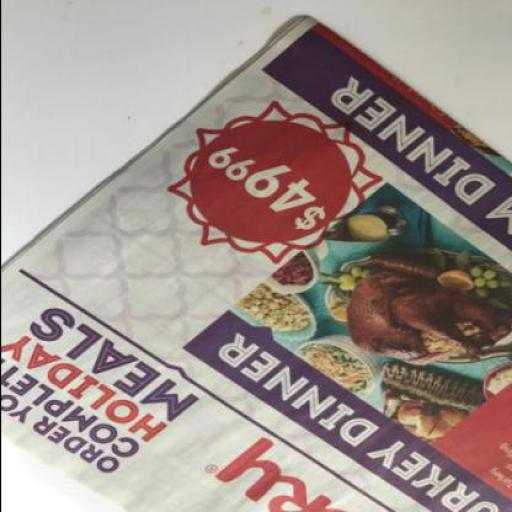paper: (1, 17, 511, 511)
